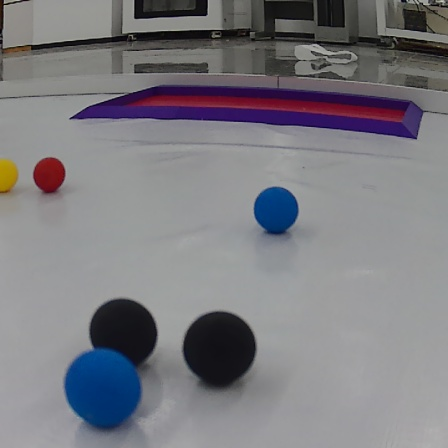black: (185, 304, 264, 387), (85, 299, 161, 357)
blue: (62, 348, 143, 429), (251, 187, 300, 233)
red: (34, 157, 71, 196)
red_aim: (77, 77, 425, 141)
yellow: (0, 157, 19, 193)
